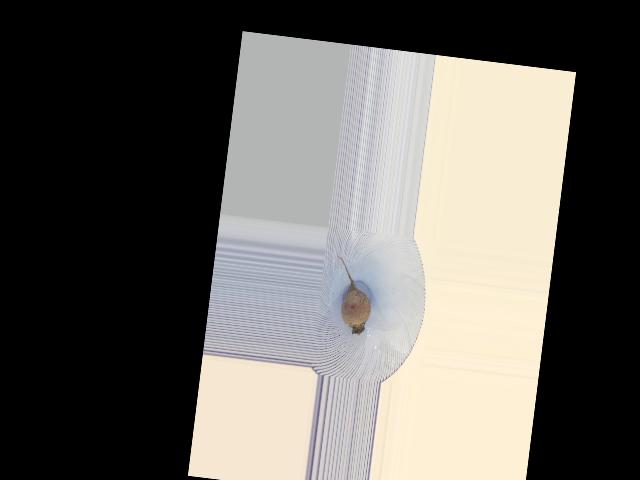beet: (328, 256, 376, 336)
